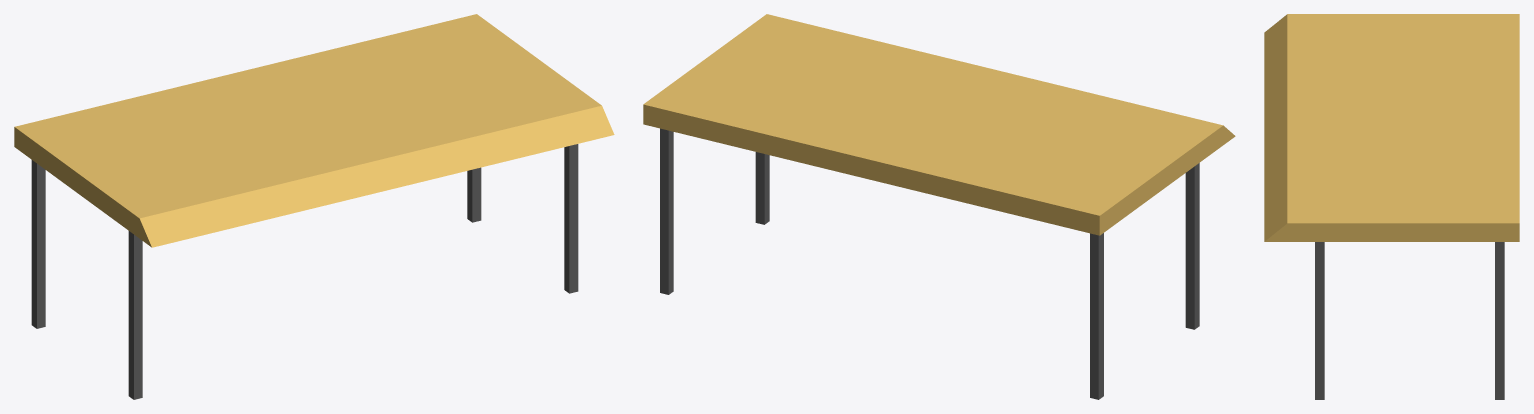
File: shelter1.glb
3 views of the same model, side by side, from view 1: azimuth 30°, elevation 25°; view 2: azimuth 150°, elevation 25°; view 3: azimuth 270°, elevation 25° (orthographic). The views are drawn at different scales.
Visible parts, largest first — view 1: Shelter; view 2: Shelter; view 3: Shelter.
Part boxes in pixels (x1=…): Shelter: x1=14, y1=14, x2=614, y2=399; Shelter: x1=643, y1=14, x2=1235, y2=399; Shelter: x1=1264, y1=14, x2=1519, y2=399.
Bounding box in the file's own units: 2.49 × 1 × 1.29.
